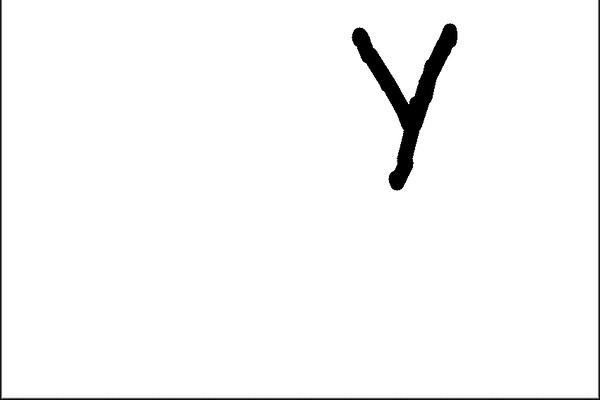Y: (341, 22, 471, 196)
